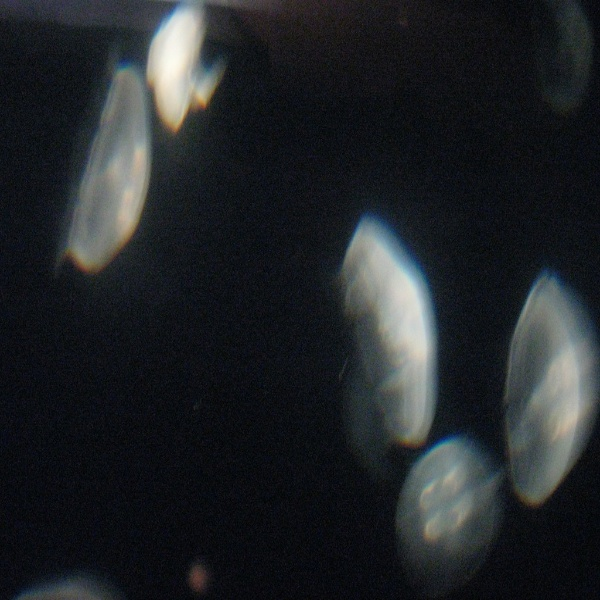Jellyfish: (339, 208, 441, 456), (504, 274, 599, 510), (62, 62, 155, 279), (394, 436, 496, 584), (144, 0, 230, 134)
